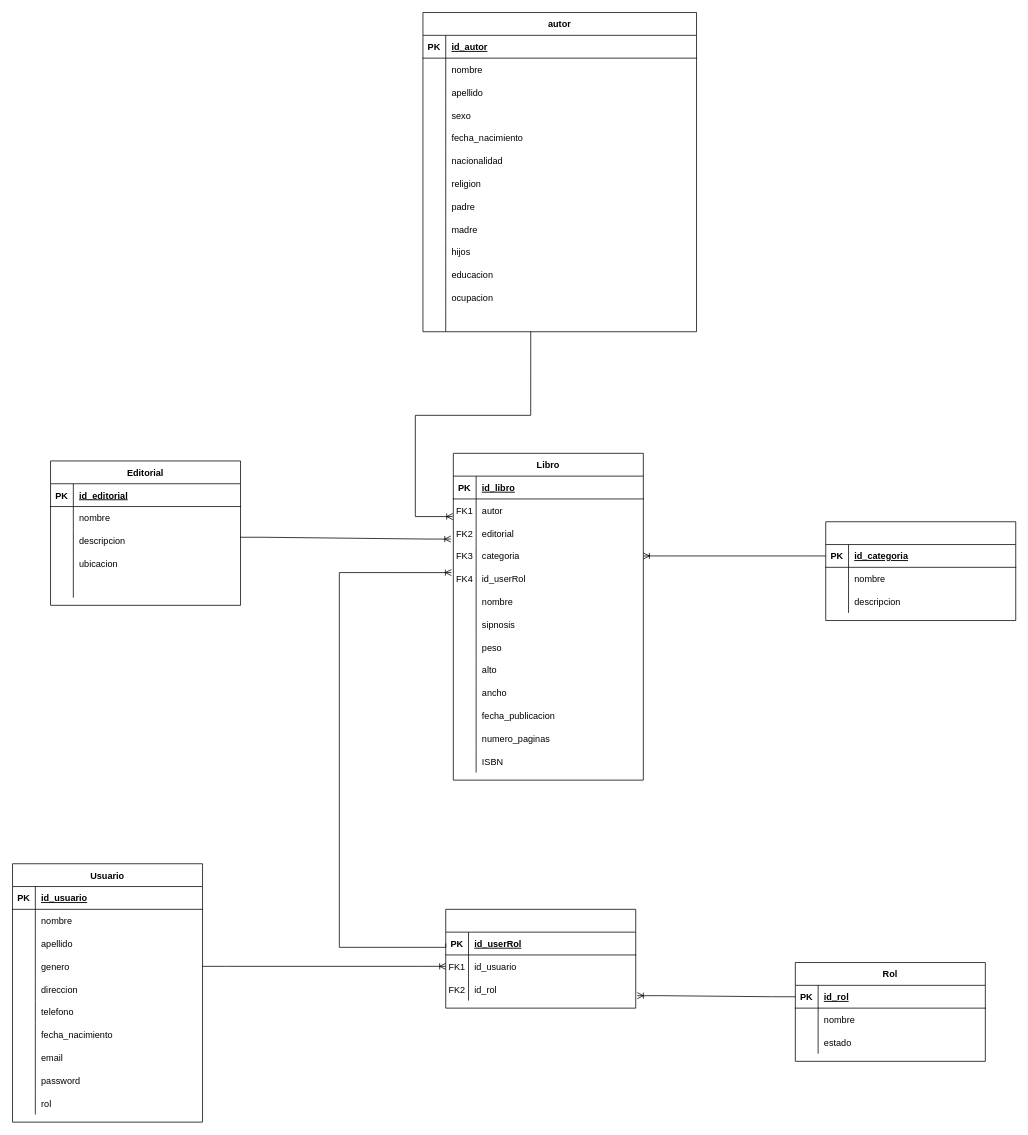
The diagram is 1028 pixels wide and 1135 high, and some of its shapes have lost their labels. The box of each missing label's shape, as (x1, y1, x2, y2) in pixels:
CategoriaLibro: (825, 521, 1016, 621)
Usuario_Has_Rol: (445, 909, 636, 1008)
